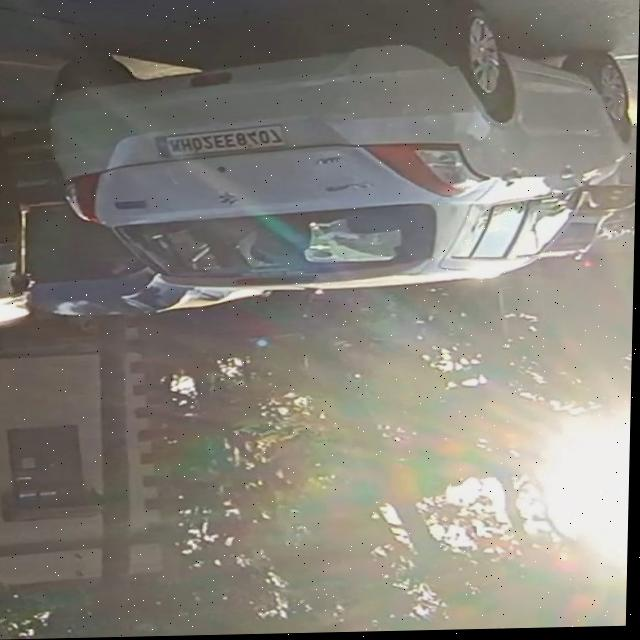plate: (153, 122, 288, 161)
